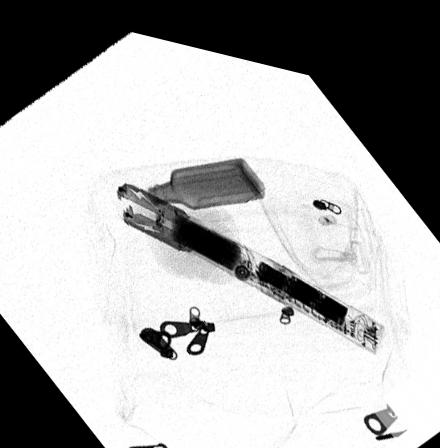Baton: (114, 174, 385, 338)
